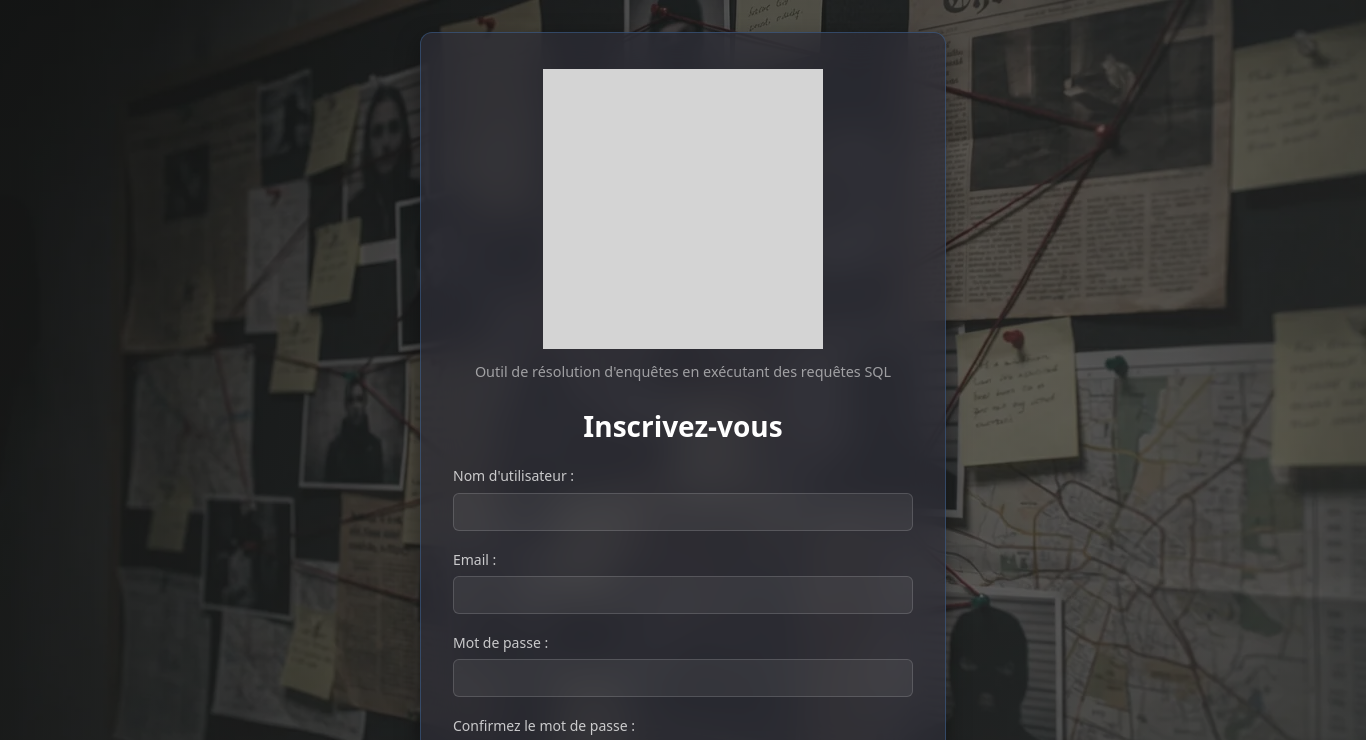
Test: Register Component › Email Validation › should show error for invalid email format
Type "invalid-email" into the field labelled "Email :".
click(683, 595); type("invalid-email")  # box x1=453 y1=576 x2=913 y2=614
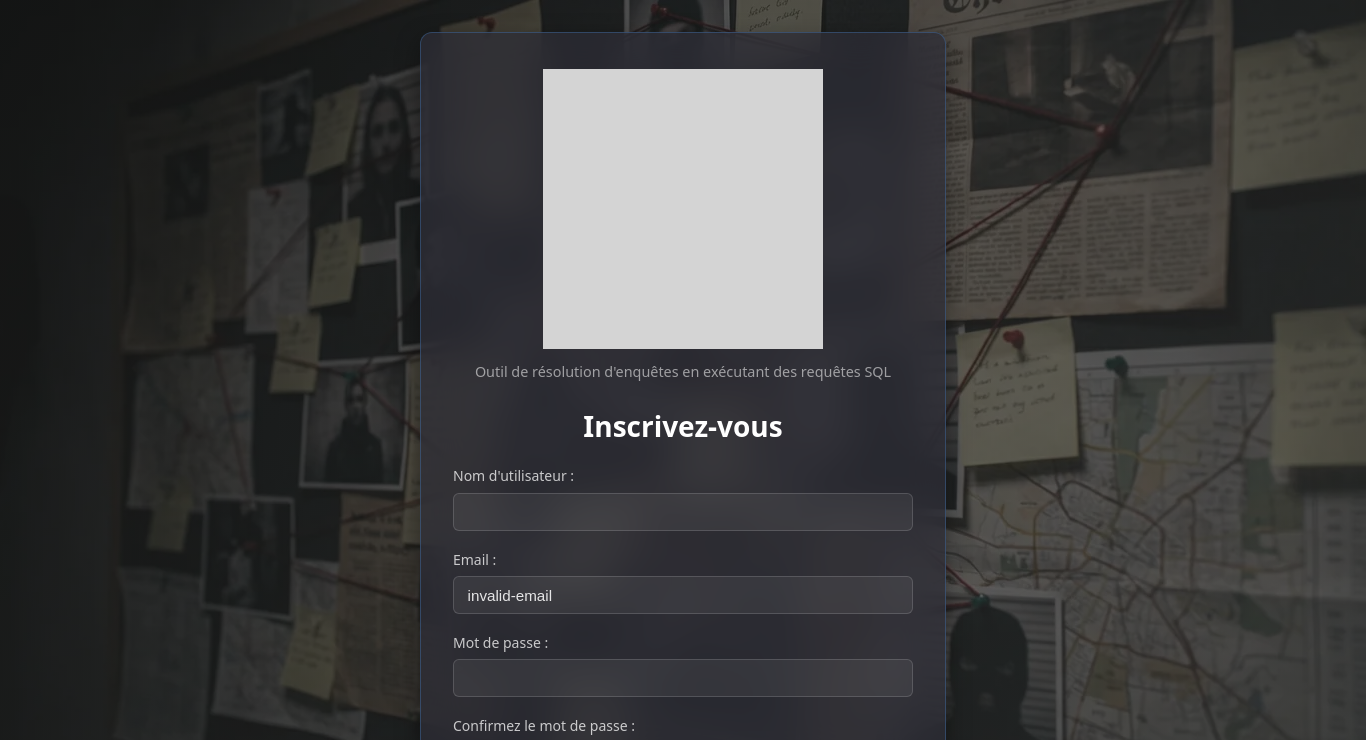
Leave the field labelled "Email :", box x1=453 y1=576 x2=913 y2=614
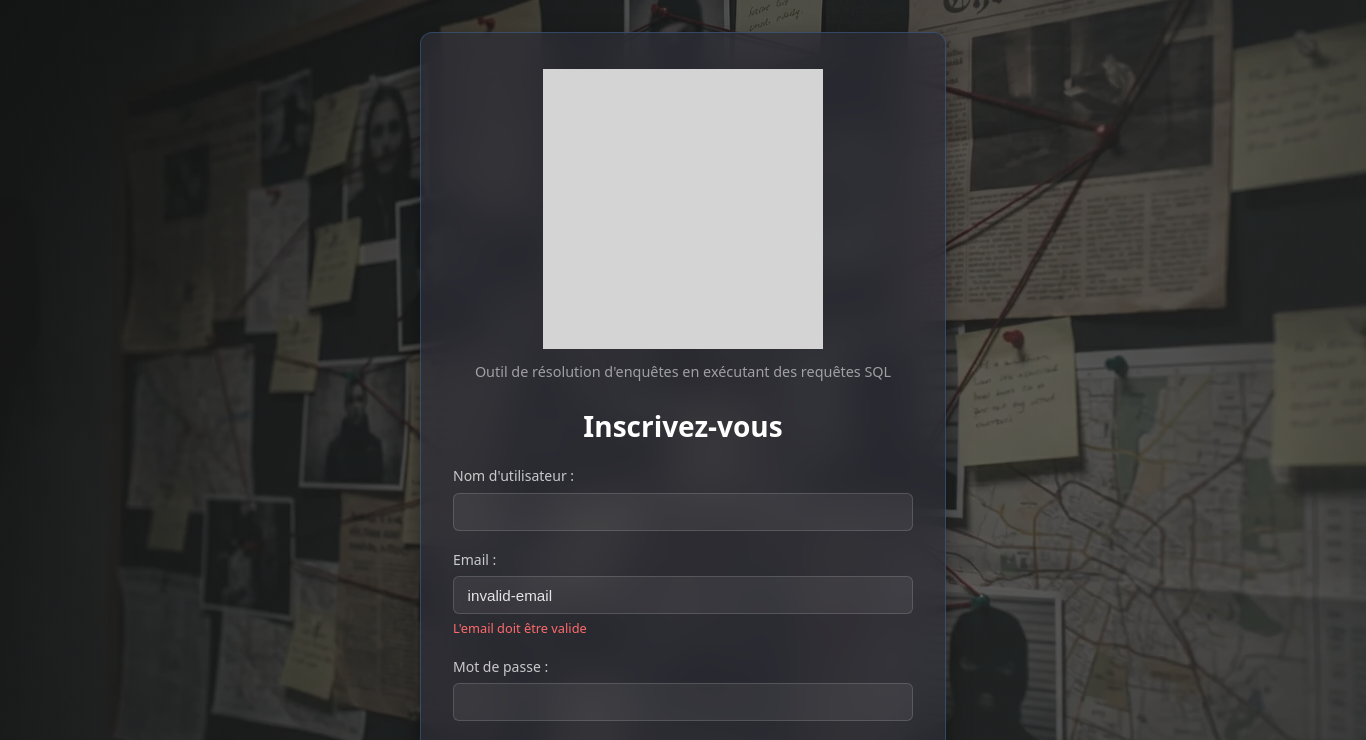
Check: the text "L'email doit être valide" is shown, box x1=453 y1=619 x2=587 y2=637
